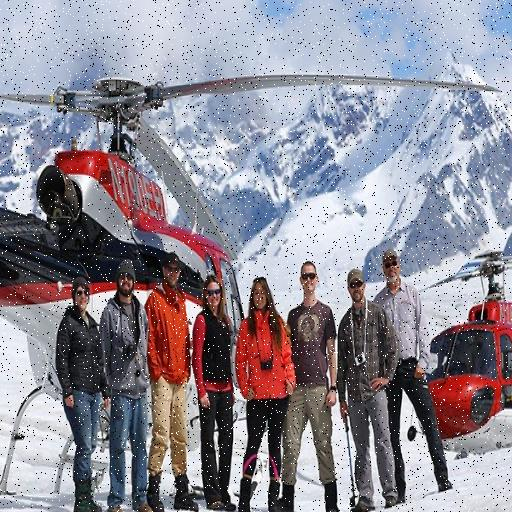helicopter: (1, 30, 256, 512), (405, 219, 512, 464)
